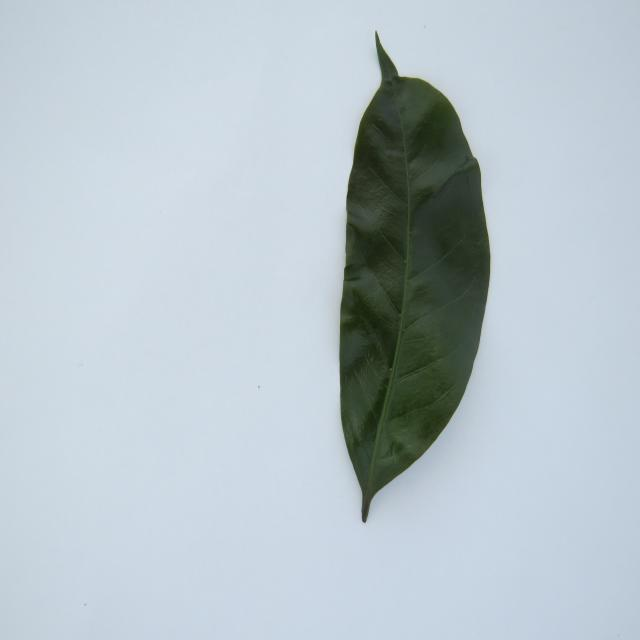DeficienciaNutricional-Boro: (340, 33, 490, 522)
